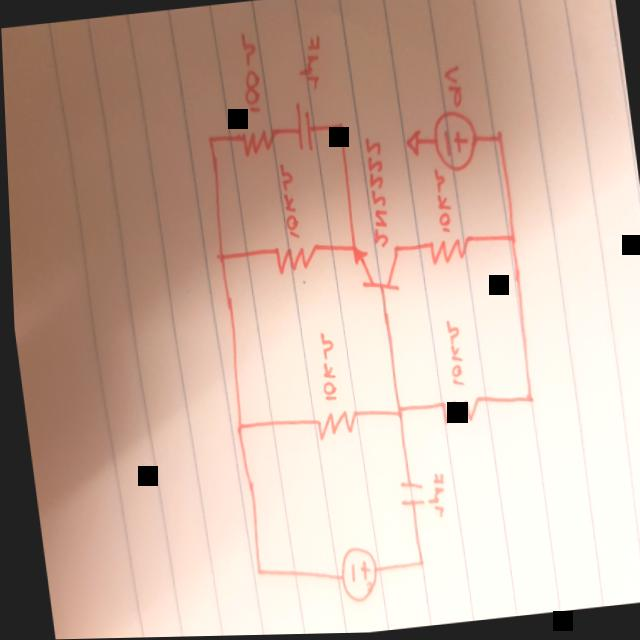capacitor: (290, 100, 315, 155), (392, 477, 421, 508)
ground: (402, 129, 421, 158)
junction: (390, 404, 402, 421), (519, 391, 531, 407), (229, 422, 243, 435), (503, 232, 516, 245), (213, 248, 224, 263), (410, 556, 421, 570), (493, 129, 502, 146), (333, 121, 343, 133), (205, 134, 214, 147), (249, 566, 259, 577)
resistor: (270, 242, 318, 278), (310, 408, 356, 443), (425, 236, 470, 267), (237, 125, 277, 159), (436, 395, 477, 427)
source: (429, 110, 478, 174), (331, 545, 376, 605)
text: (357, 129, 391, 249), (236, 29, 264, 116), (273, 161, 301, 243), (292, 30, 327, 95), (314, 329, 338, 405), (439, 319, 464, 389), (429, 165, 453, 236), (419, 467, 445, 521), (438, 61, 466, 111)
transistor: (348, 240, 402, 297)
